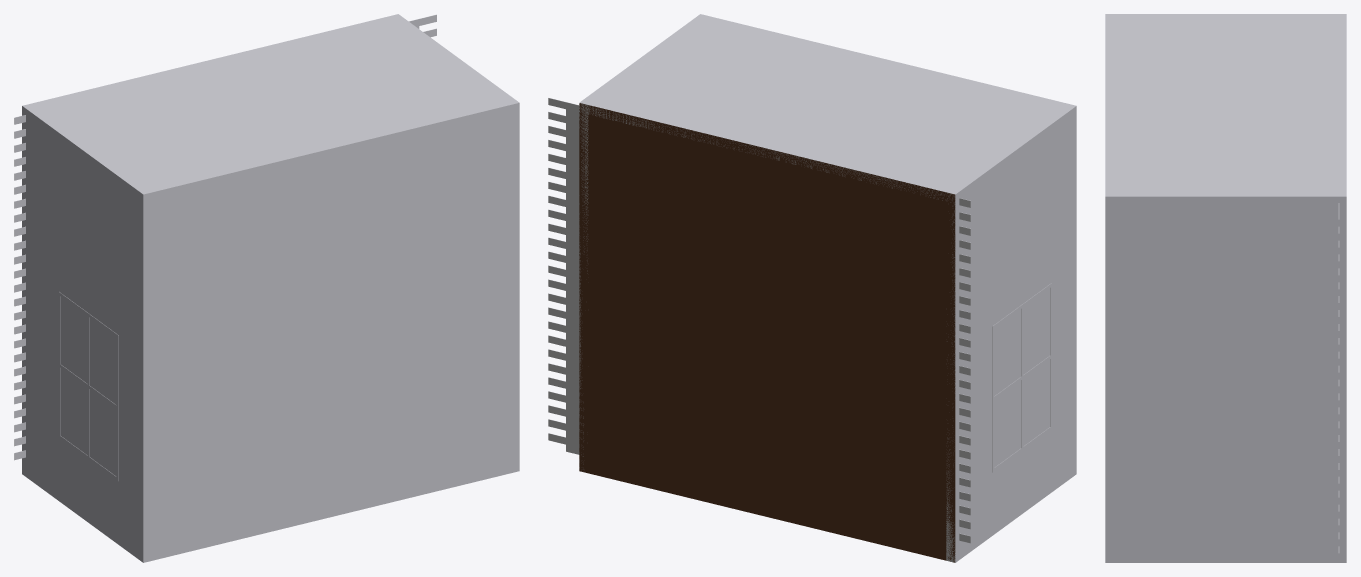
The model's file is luxury_bedroom_render.obj.
3 renders of one model, left to right at view 1: azimuth 30°, elevation 25°; view 2: azimuth 150°, elevation 25°; view 3: azimuth 270°, elevation 25°, orthographic.
Parts seen in each view (by area): view 1: Default; view 2: Default; view 3: Default.
Part boxes in pixels (left/top/right/bottom): Default: left=14, top=14, right=519, bottom=562; Default: left=548, top=14, right=1076, bottom=562; Default: left=1105, top=14, right=1346, bottom=562.
Bounding box in the file's own units: 6.96 × 5.8 × 3.46.
